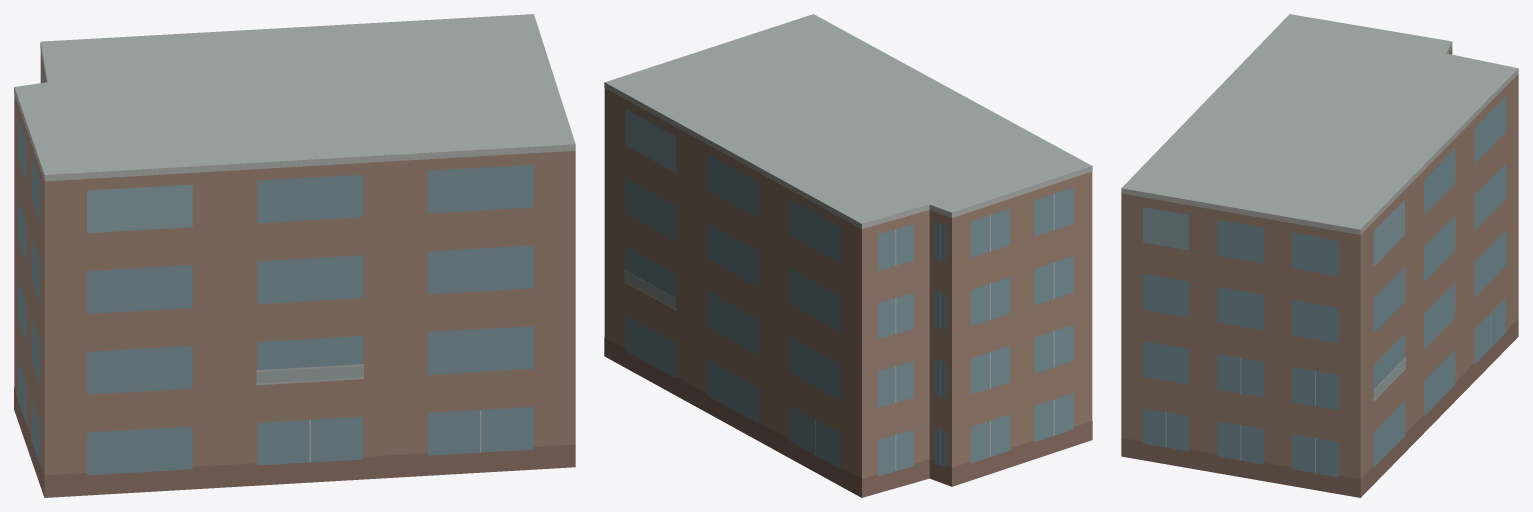
The model's file is survey-upis-32748569.glb.
The picture shows the model from 3 angles, left to right: view 1: azimuth 30°, elevation 25°; view 2: azimuth 150°, elevation 25°; view 3: azimuth 270°, elevation 25°; orthographic projection. The views are drawn at different scales.
Visible parts, largest first — view 1: survey-upis-32748569.tmp; view 2: survey-upis-32748569.tmp; view 3: survey-upis-32748569.tmp.
Boxes of the visible parts, left/top/right/bottom form: survey-upis-32748569.tmp: left=14, top=14, right=575, bottom=497; survey-upis-32748569.tmp: left=604, top=14, right=1092, bottom=497; survey-upis-32748569.tmp: left=1121, top=14, right=1518, bottom=497.
Size of the model in its own units: 21.4 by 12.4 by 16.66.
